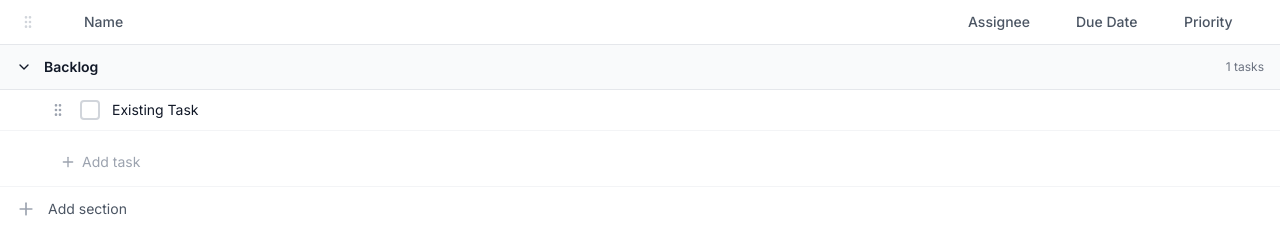
it: ProjectListView › collapses section when header is clicked
The width and height of the screenshot is (1280, 233).
Check: the button "Existing Task" is shown, box [112,100,199,120]
Click the heading "Backlog": (71, 67) [44,57,98,77]
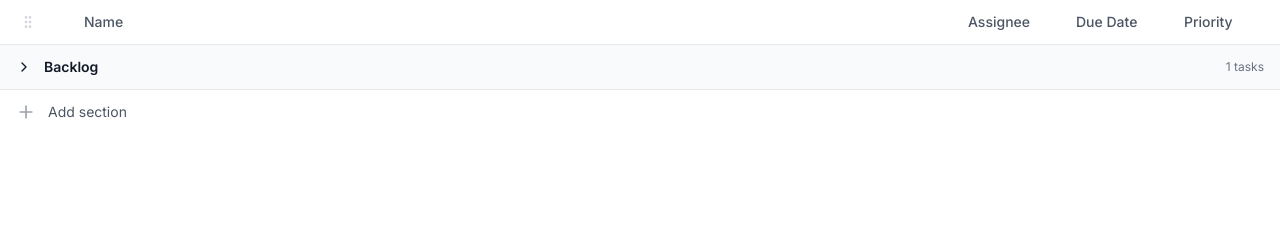
Check: the button "Existing Task" is gone
